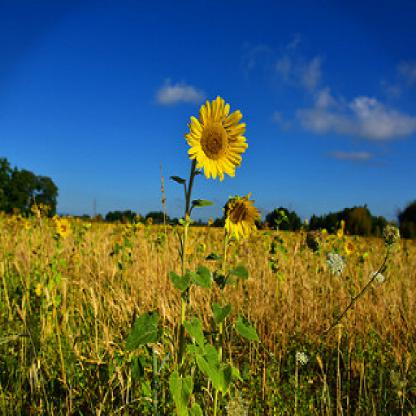SUN FLOWER: (166, 73, 309, 320)
